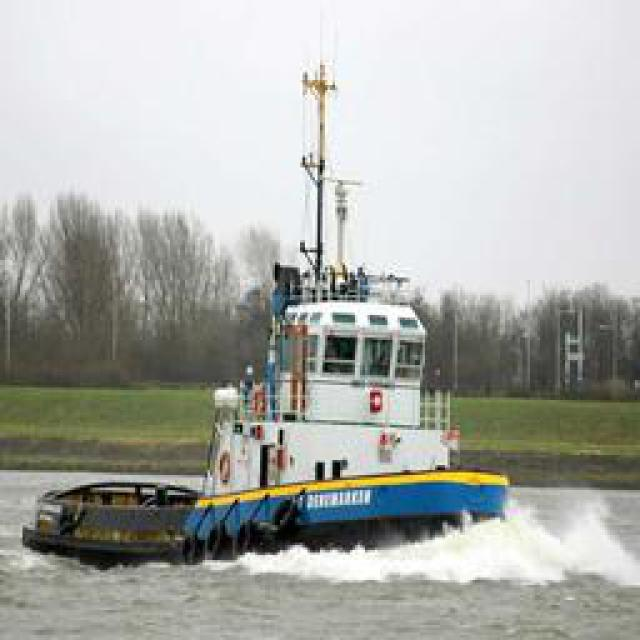Ship: (32, 265, 500, 568)
